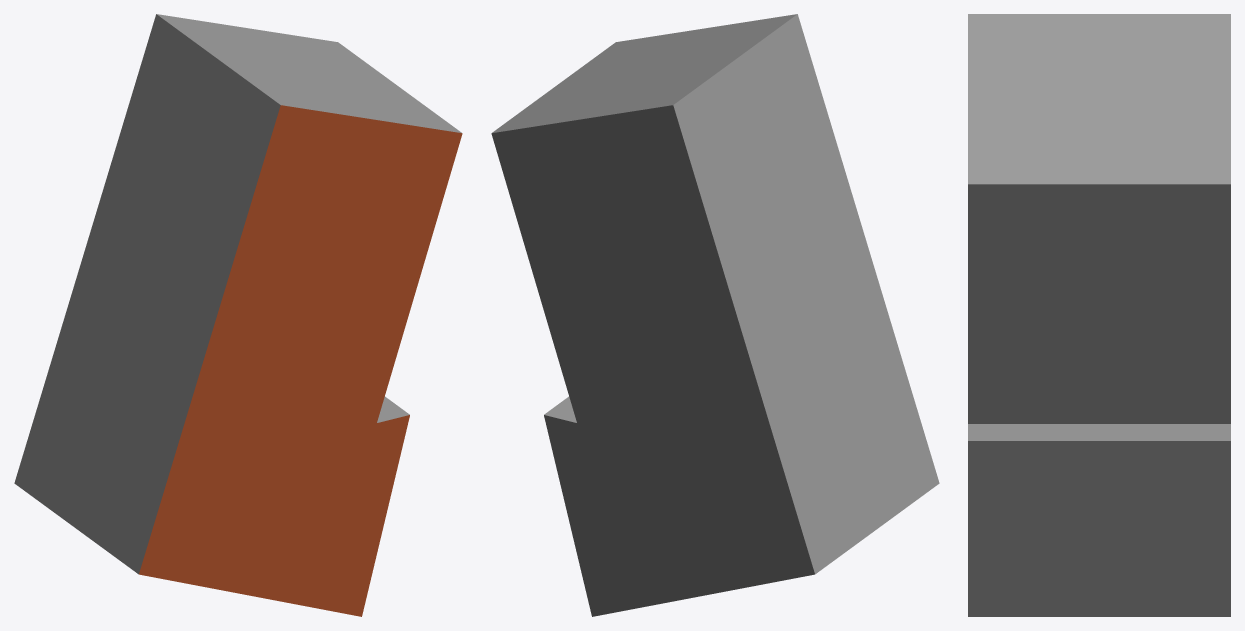
File: construction_3402_assumed_A_Casa_h6m.obj
The picture shows the model from 3 angles, left to right: view 1: azimuth 30°, elevation 25°; view 2: azimuth 150°, elevation 25°; view 3: azimuth 270°, elevation 25°; orthographic projection. The views are drawn at different scales.
Parts seen in each view (by area): view 1: construction_3402_assumed_A_Casa; view 2: construction_3402_assumed_A_Casa; view 3: construction_3402_assumed_A_Casa.
Part boxes in pixels (x1,y1,x2,y2): construction_3402_assumed_A_Casa: (14,14,462,616); construction_3402_assumed_A_Casa: (491,14,939,616); construction_3402_assumed_A_Casa: (968,14,1230,616).
Bounding box in the file's own units: 9.01 × 14.14 × 6.
